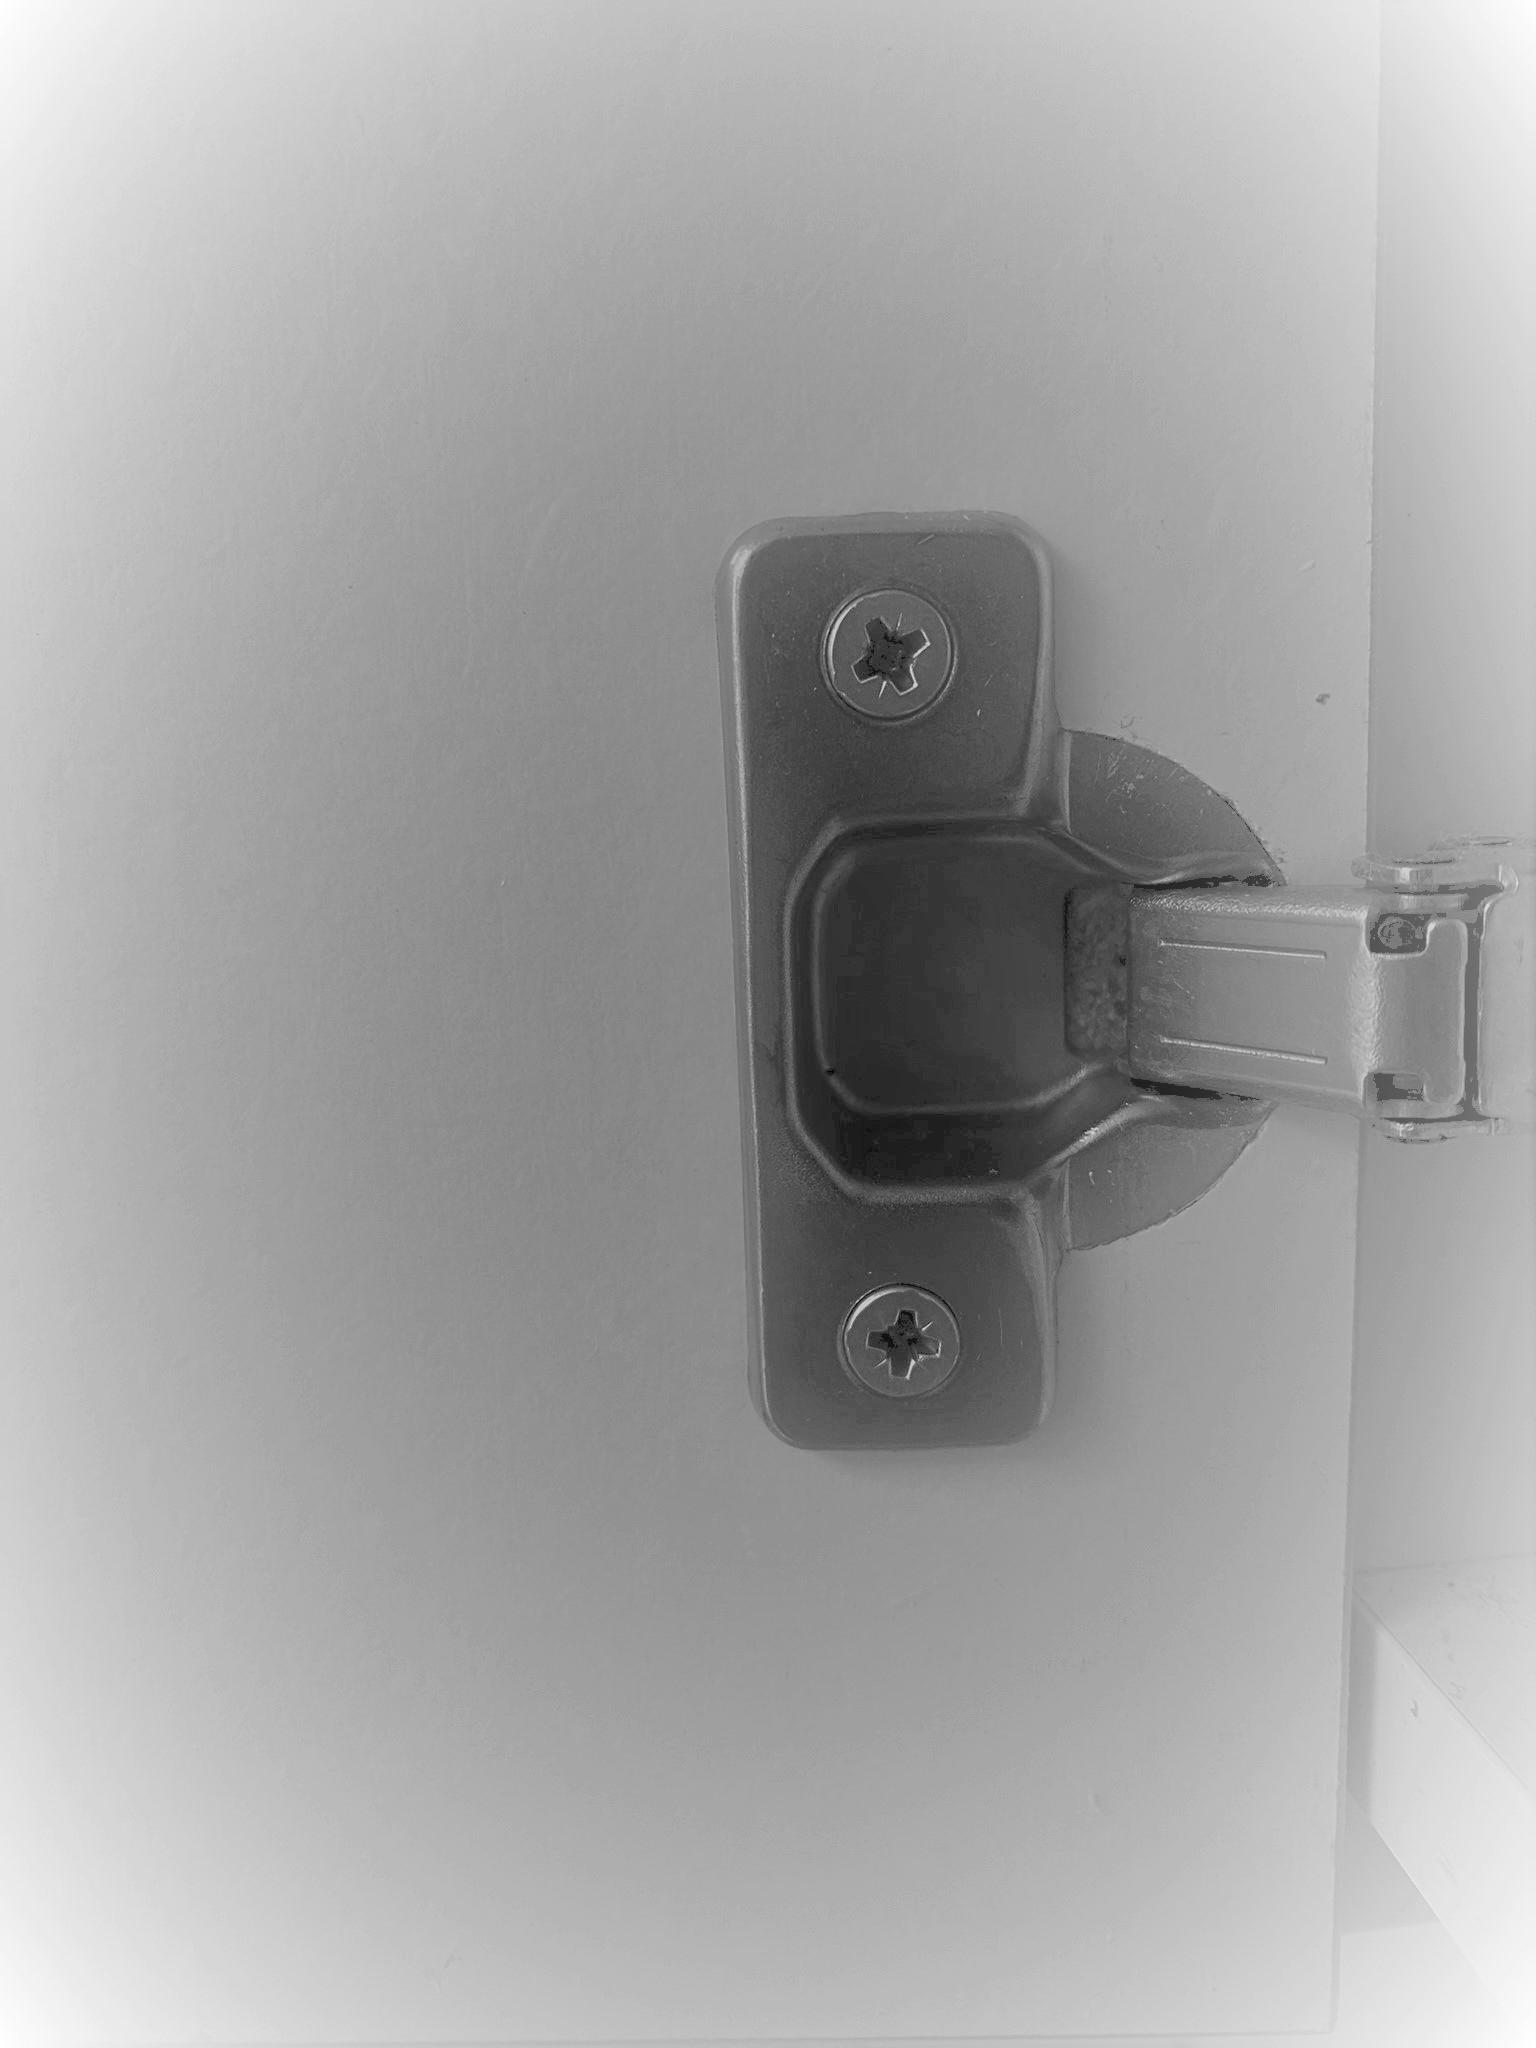screw: (828, 585, 957, 722), (841, 1282, 966, 1405)
